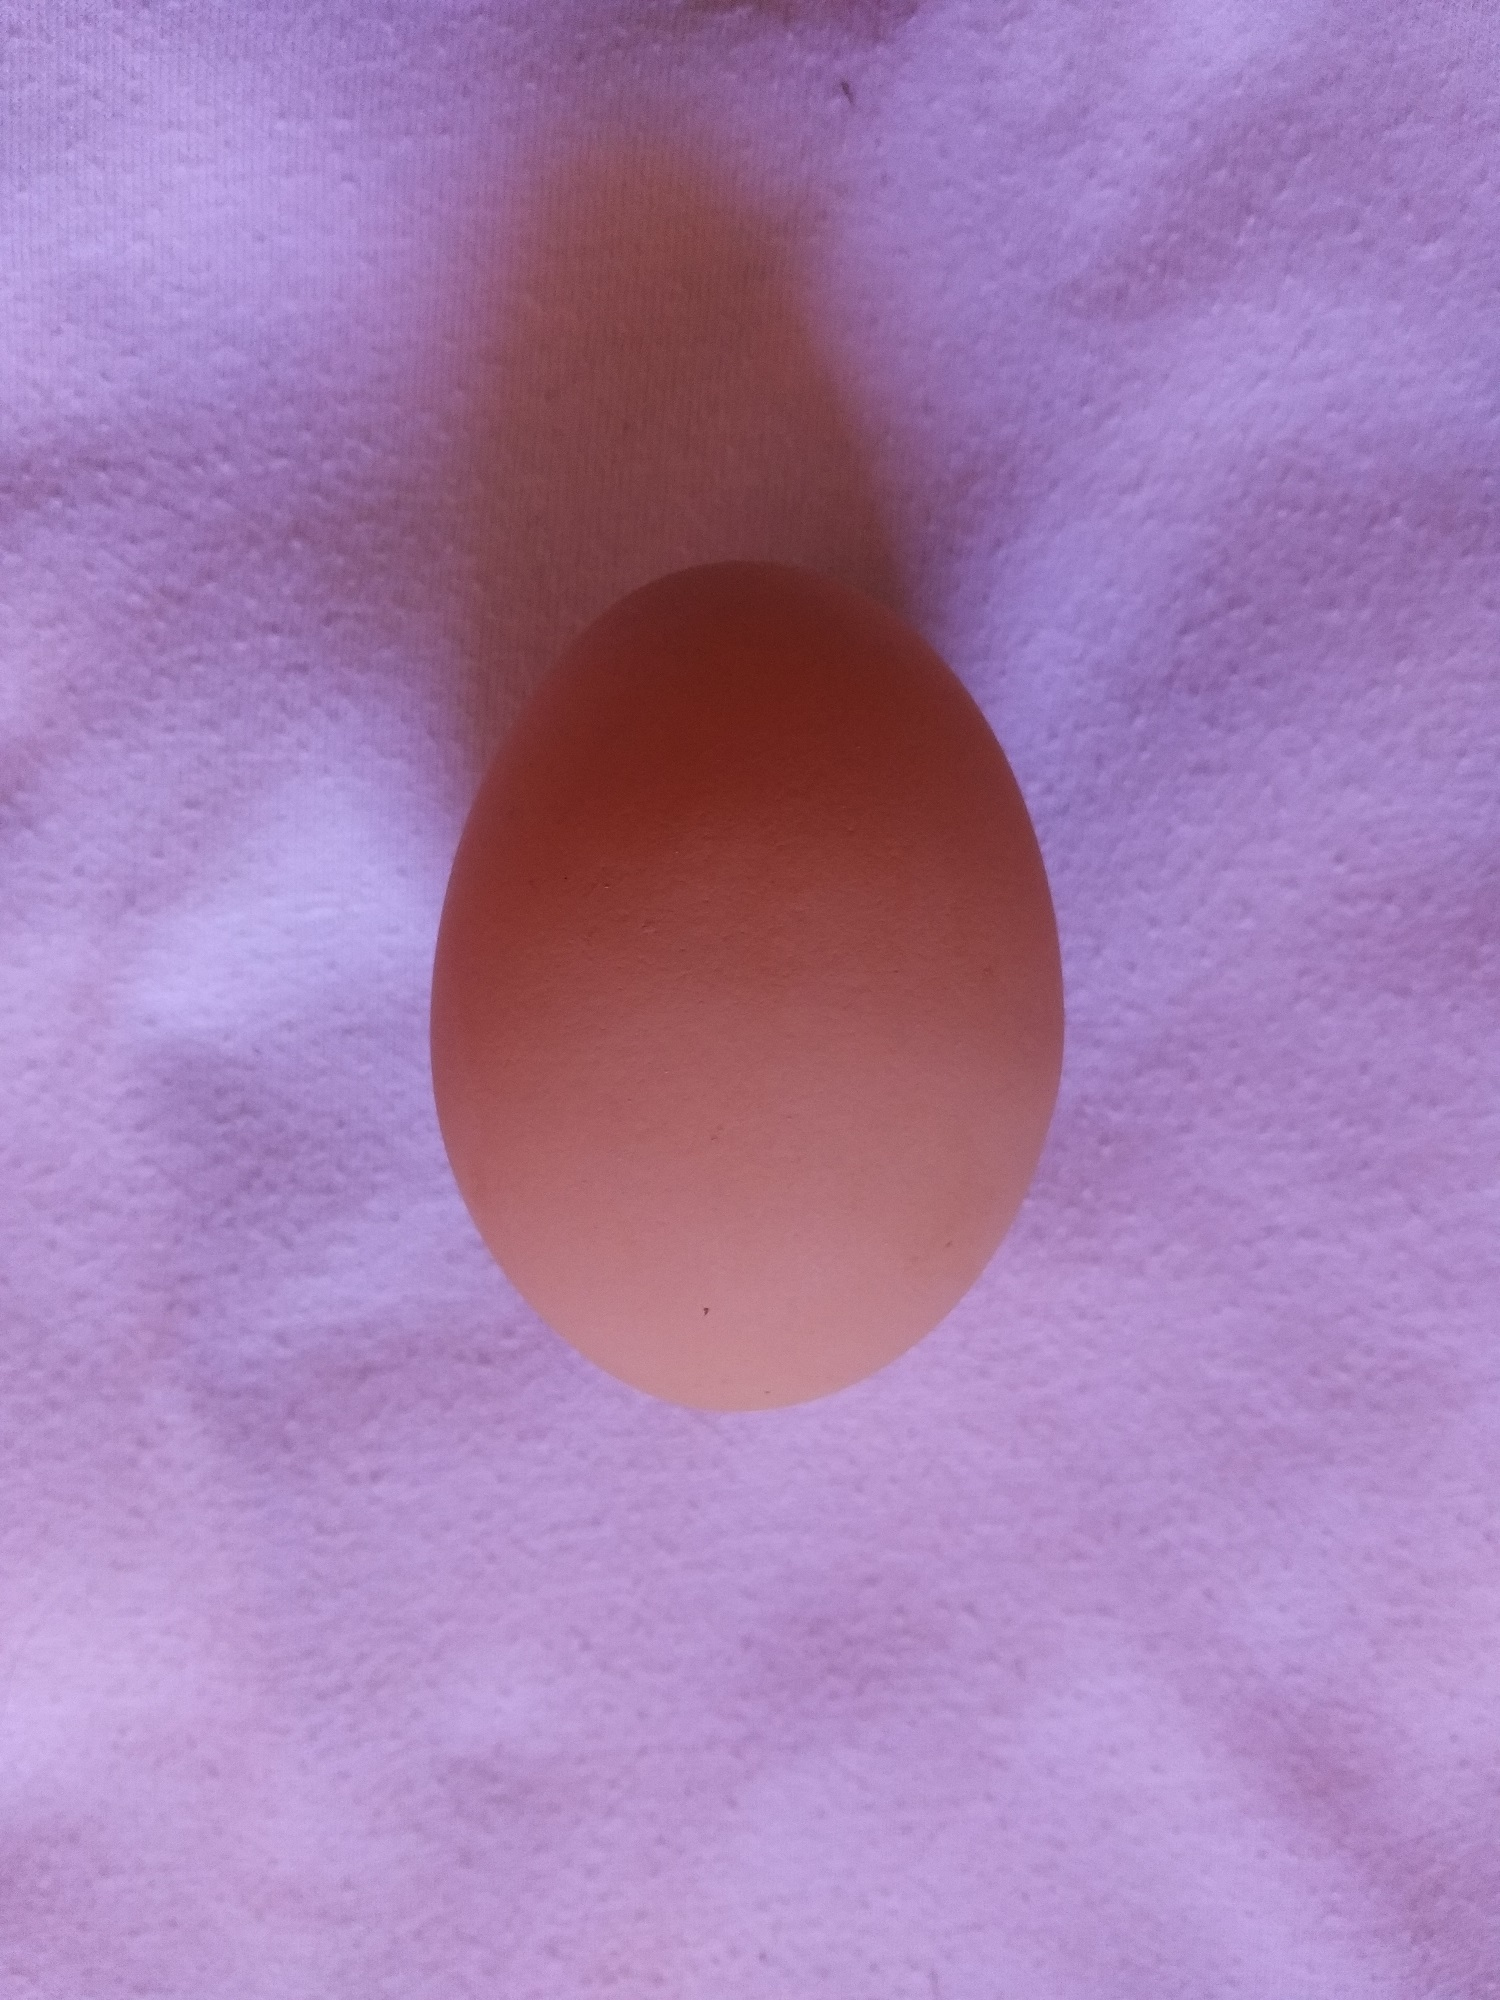Female: (425, 553, 1070, 1419)
